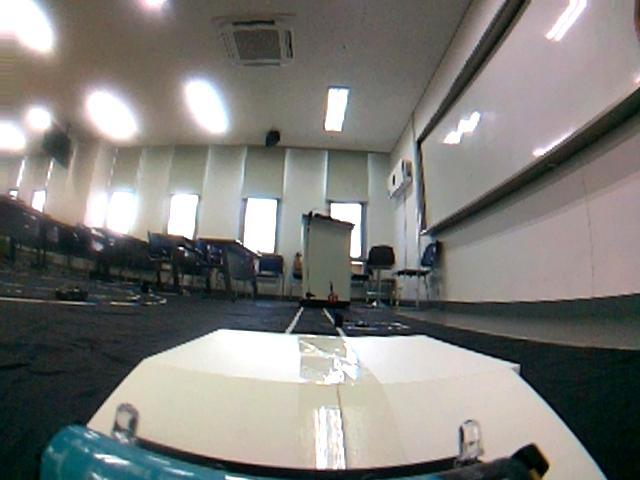hill_up: (33, 321, 626, 480)
